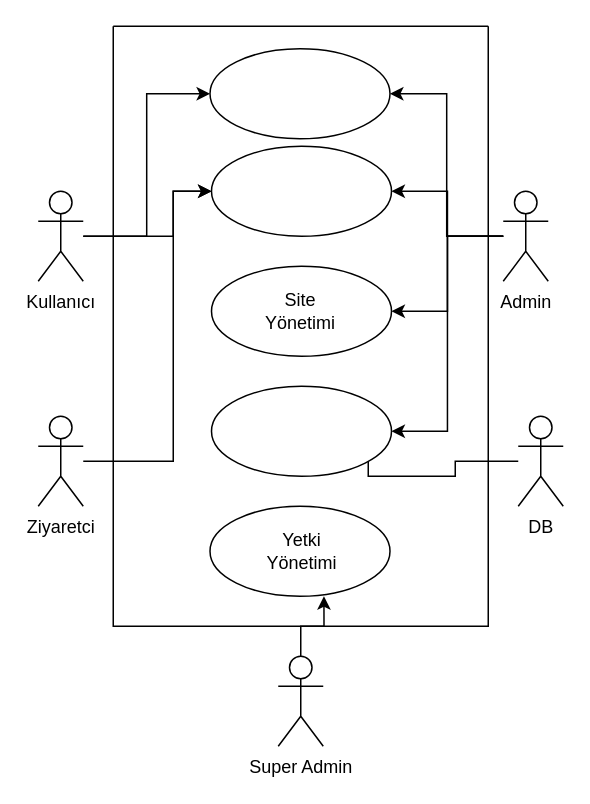
Some shapes in this 590 by 804 pixel diagram are drawn without their labels. Here are the shapes that lost their labels. From the top down, the centre of each, then its label:
At [299,93]: "Hesap Yönetimi".
At [301,190]: "Sayfa Kullanımı".
At [301,430]: "Kullanıcı Yönetimi".
